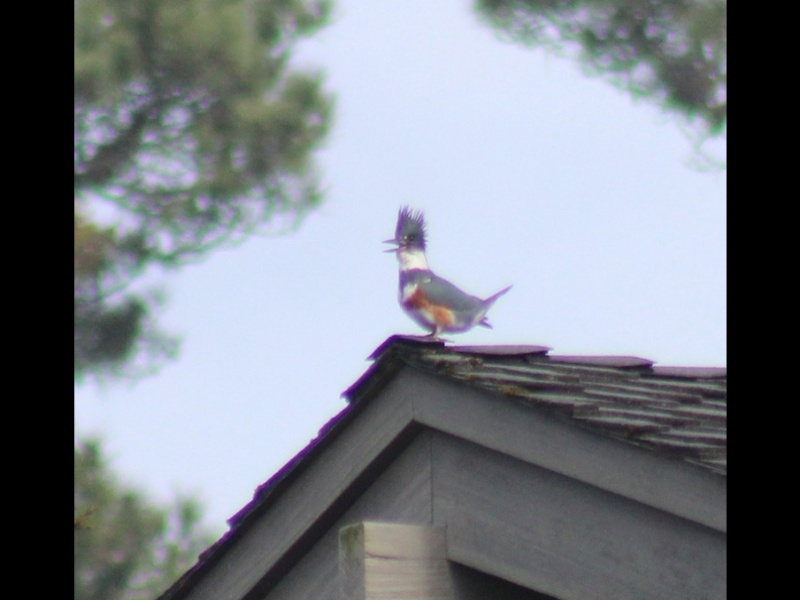kingfisher: (382, 209, 512, 346)
